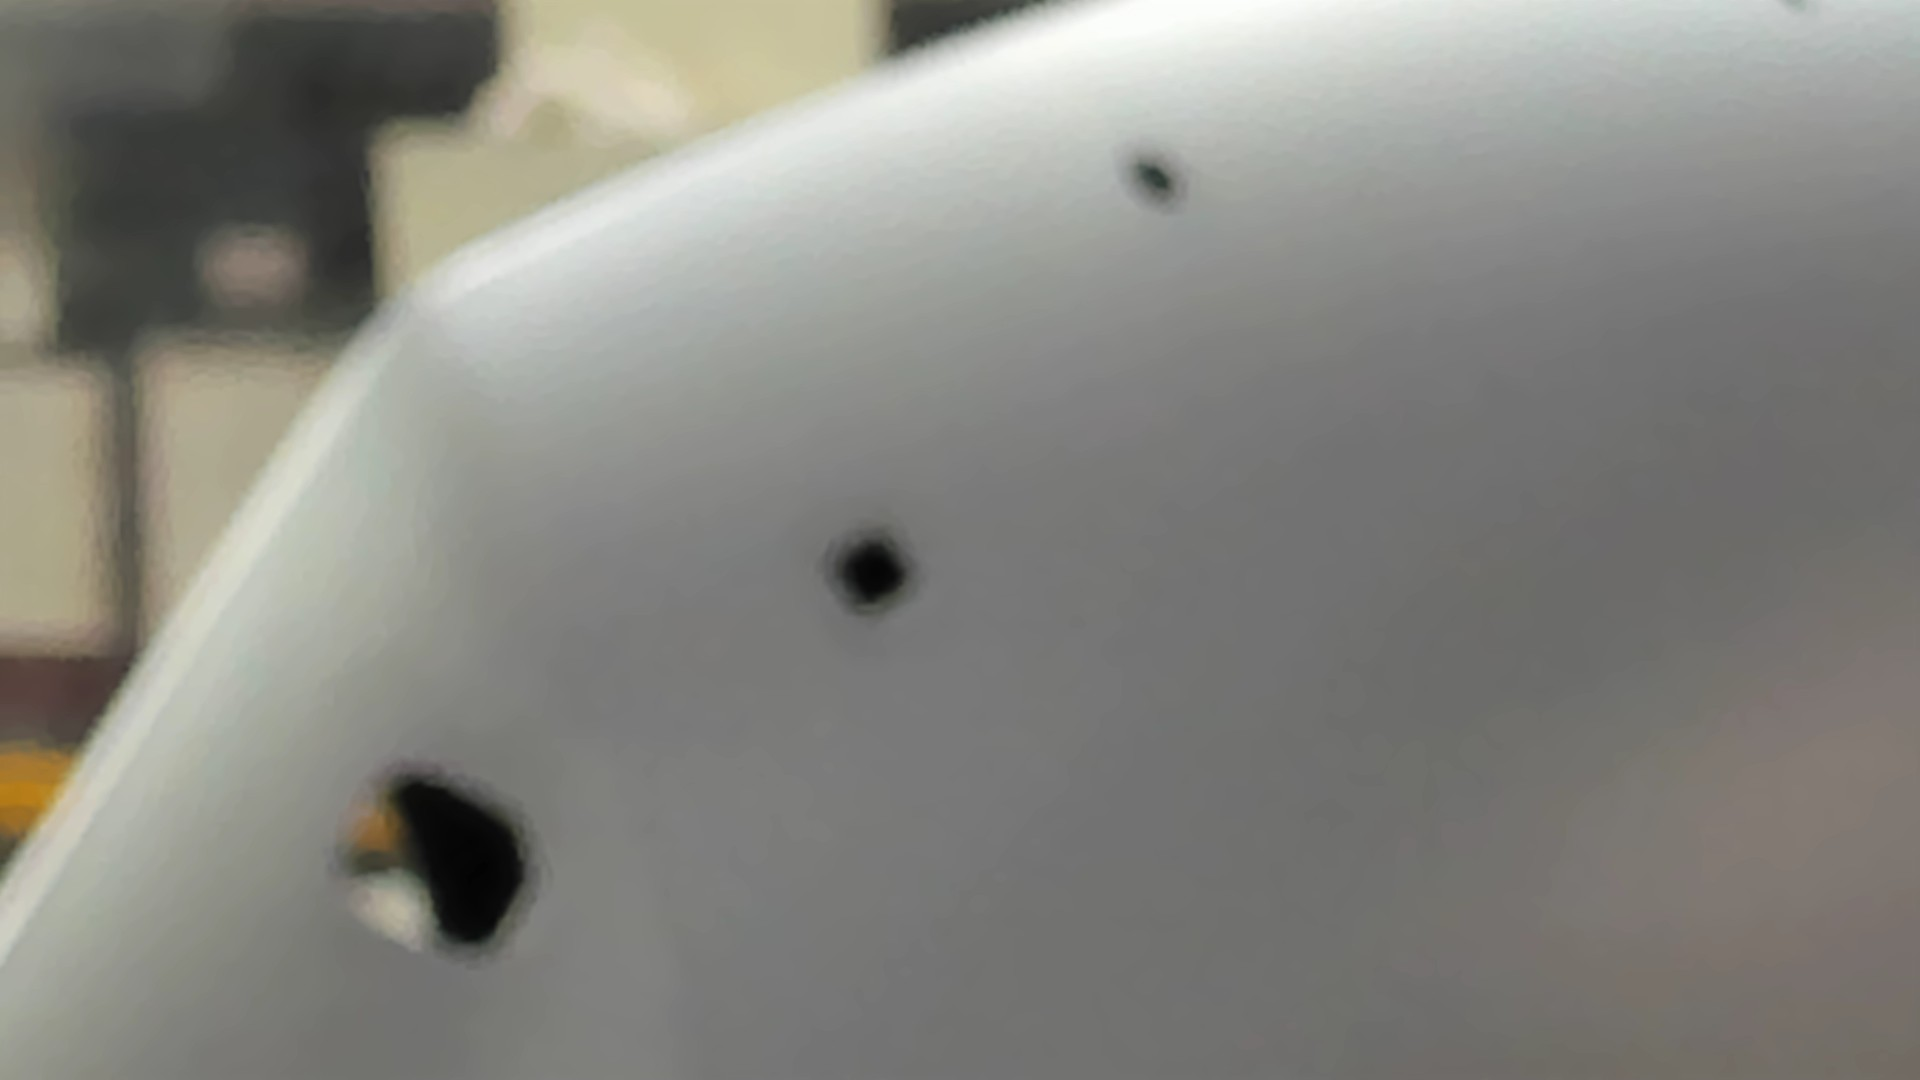chico: (1113, 138, 1191, 218)
grande: (320, 753, 556, 965)
mediano: (808, 513, 928, 628)
